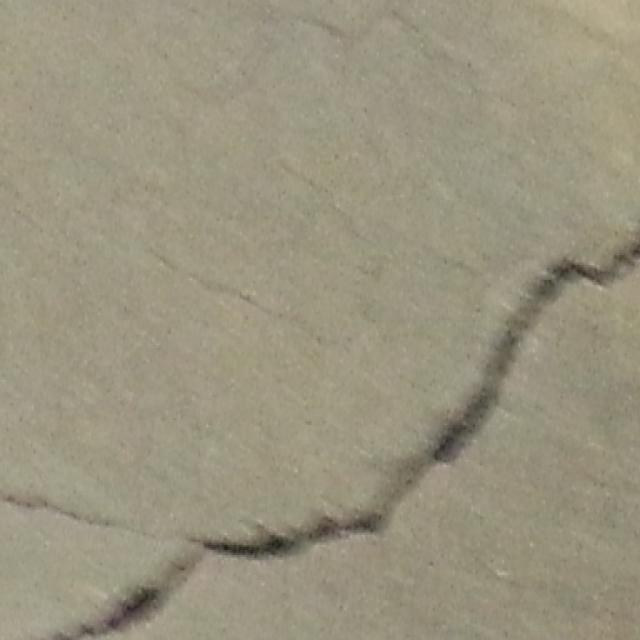crack: (1, 235, 636, 635)
